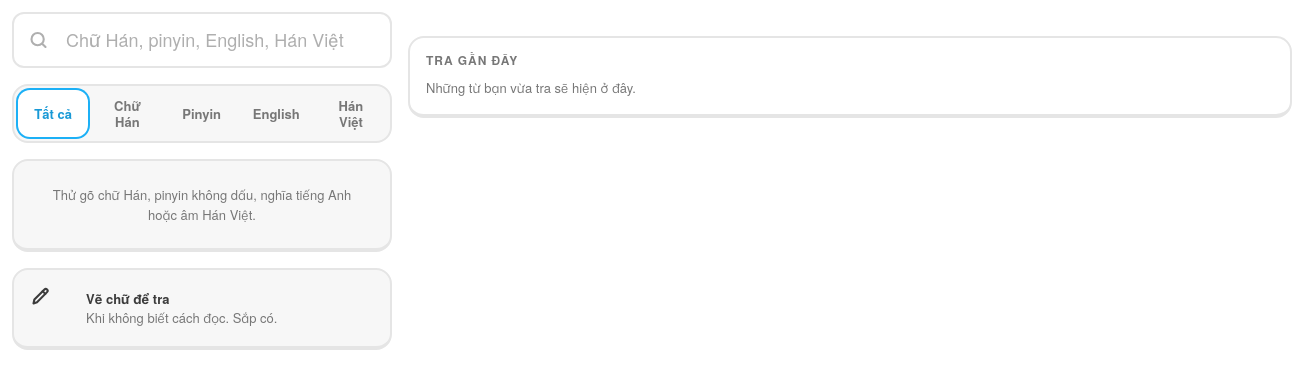
Test: SearchScreen: trạng thái › 429 báo gõ quá nhanh
The width and height of the screenshot is (1292, 367).
Type "hao" into the search field at (202, 40), box left=12, top=12, right=392, bottom=68
Wait 250 ms
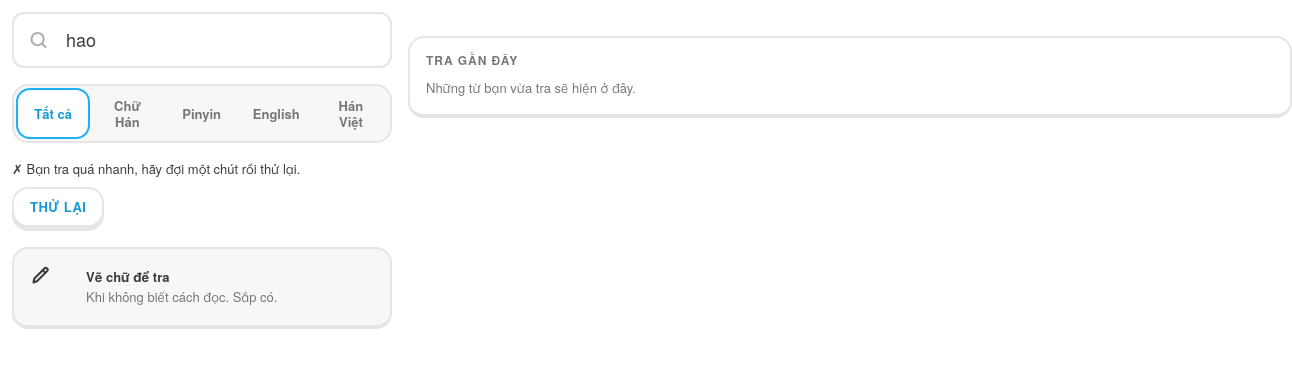
Expected: the message shows "quá nhanh", left=26, top=159, right=300, bottom=178
